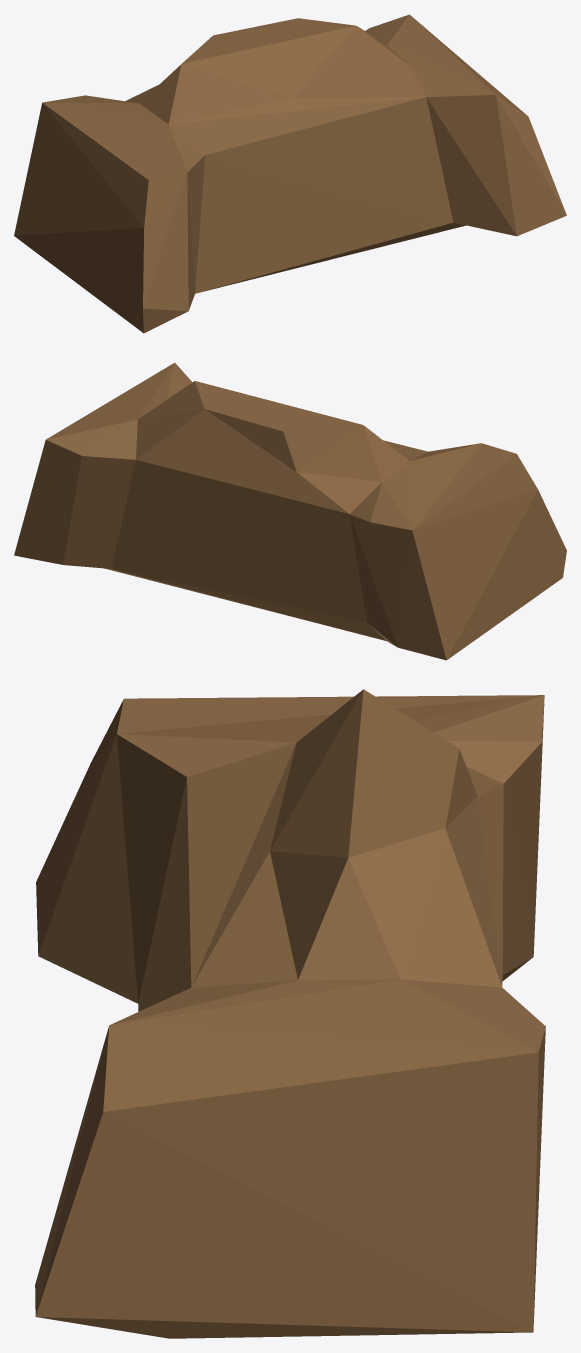
The model's file is LPWarPack_ClayStructure2.fbx.
The picture shows the model from 3 angles, top to bottom: view 1: azimuth 30°, elevation 25°; view 2: azimuth 150°, elevation 25°; view 3: azimuth 270°, elevation 25°; orthographic projection. The views are drawn at different scales.
Visible parts, largest first — view 1: ClayStructure2; view 2: ClayStructure2; view 3: ClayStructure2.
Part boxes in pixels (x1,y1,x2,y2): ClayStructure2: [14, 14, 566, 333]; ClayStructure2: [14, 362, 566, 660]; ClayStructure2: [35, 689, 545, 1338].
Size of the model in its own units: 342 by 140 by 176.
